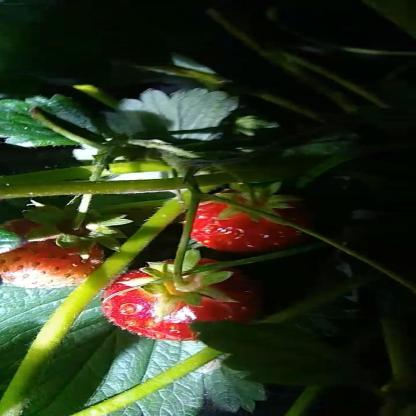ripe: (108, 259, 264, 344), (182, 190, 332, 250), (0, 221, 104, 296)
